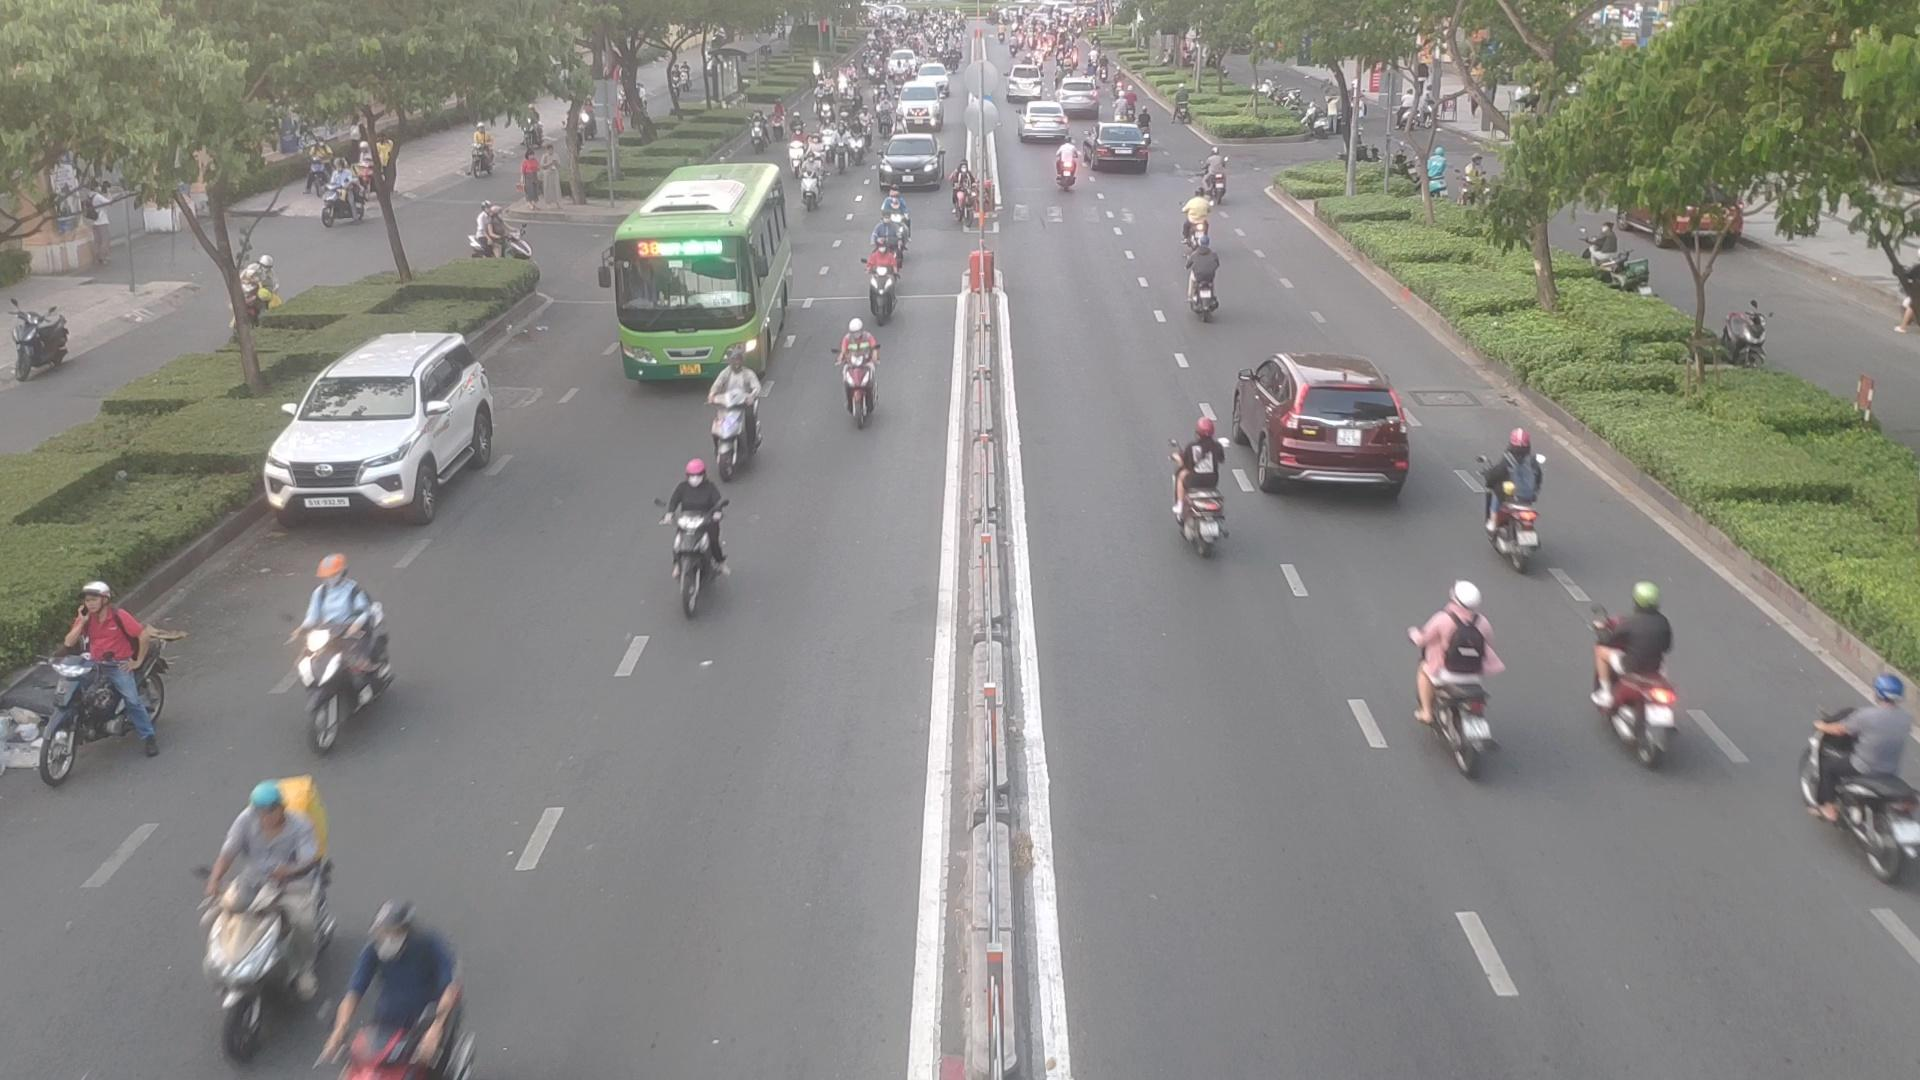bus: (605, 206, 796, 390)
car: (268, 331, 512, 525), (1212, 353, 1422, 498), (881, 136, 949, 193), (1087, 124, 1159, 171), (1021, 104, 1069, 144)
motorbike: (185, 789, 330, 1050), (15, 584, 164, 778), (324, 905, 476, 1075), (1803, 688, 1920, 876), (1597, 589, 1701, 767), (1412, 593, 1514, 775), (294, 574, 396, 738), (659, 464, 728, 608), (1164, 414, 1229, 560), (1478, 436, 1552, 556), (699, 361, 762, 462), (829, 324, 887, 429), (855, 249, 906, 326), (1178, 245, 1222, 320), (957, 171, 1007, 232), (866, 214, 909, 260), (1201, 153, 1240, 196), (1048, 146, 1081, 194)
